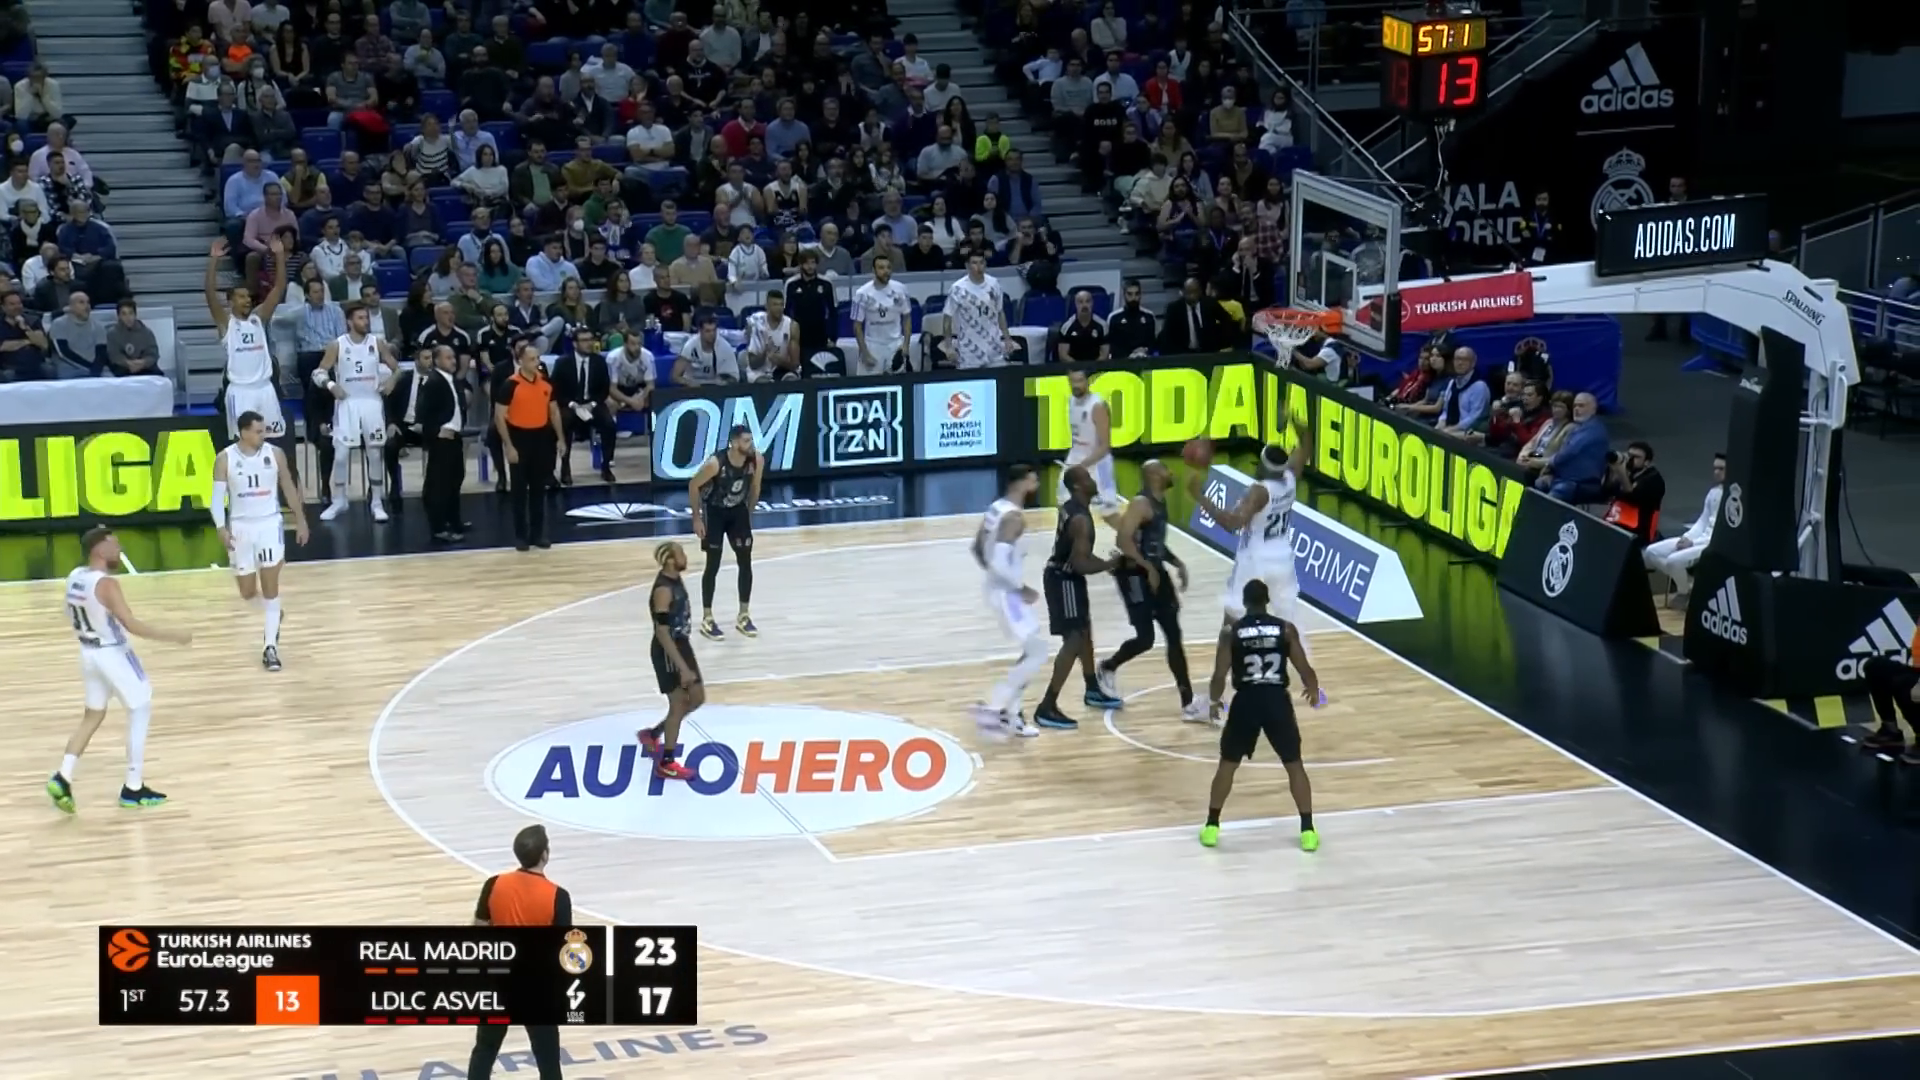ball: (1179, 436, 1217, 471)
net: (1250, 309, 1323, 371)
